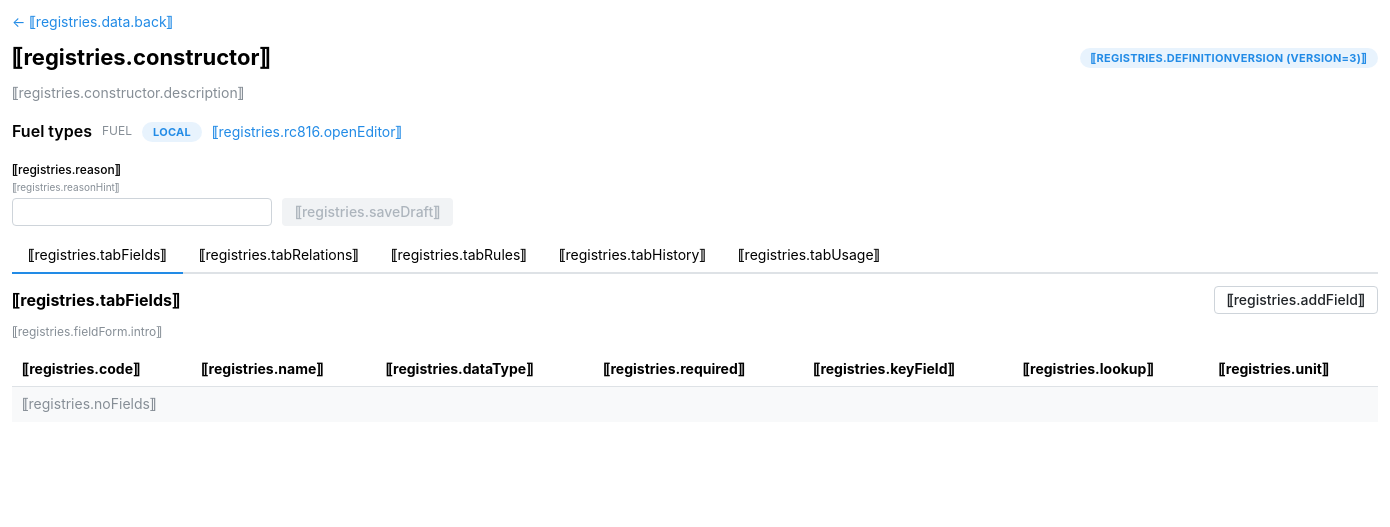
it: RegistryConstructorPage: правки під час збереження чернетки (L9-39) › без правок під час збереження форма засівається збереженою чернеткою
Type "лише так" into the field labelled "⟦registries.reason⟧".
click(142, 212); type("лише так")  # box top-left (12, 198), bottom-right (272, 226)
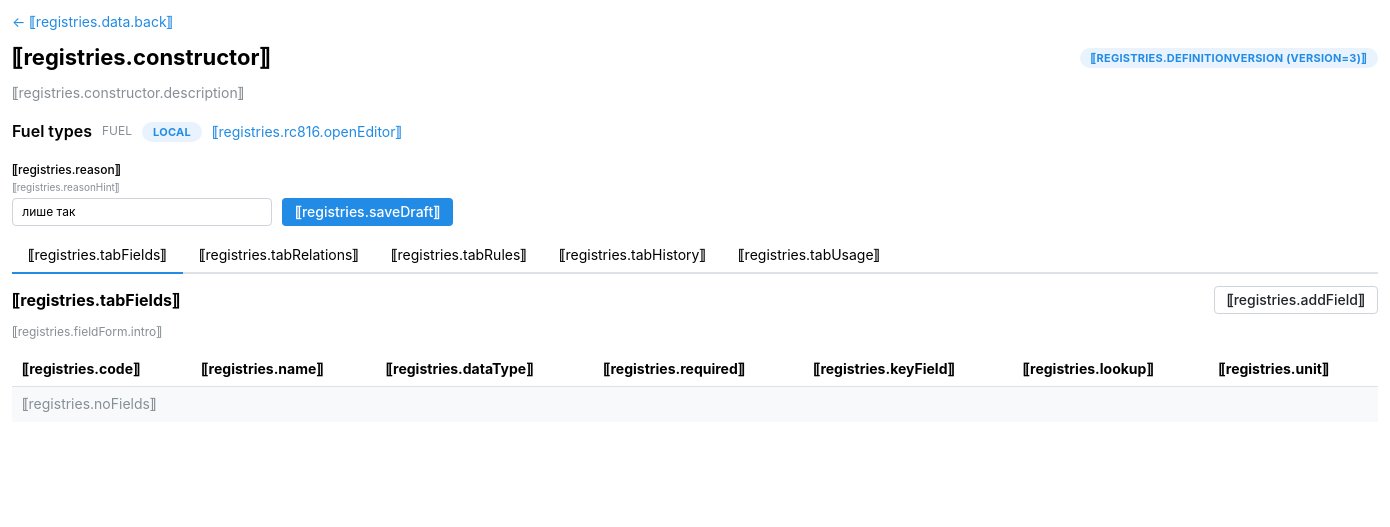
Expected: the button "⟦registries.saveDraft⟧" is enabled
Click the button "⟦registries.saveDraft⟧".
click(368, 212)  # box top-left (282, 198), bottom-right (453, 226)
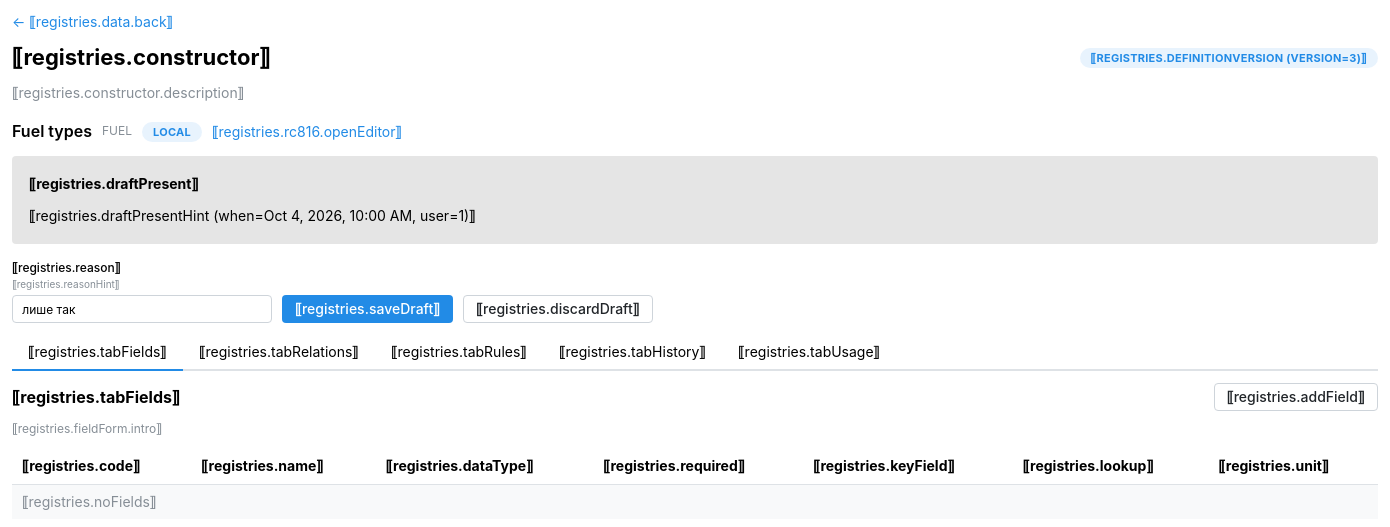
Expected: the message with test id "registry-draft-present" is shown, top-left (12, 156), bottom-right (1378, 244)
